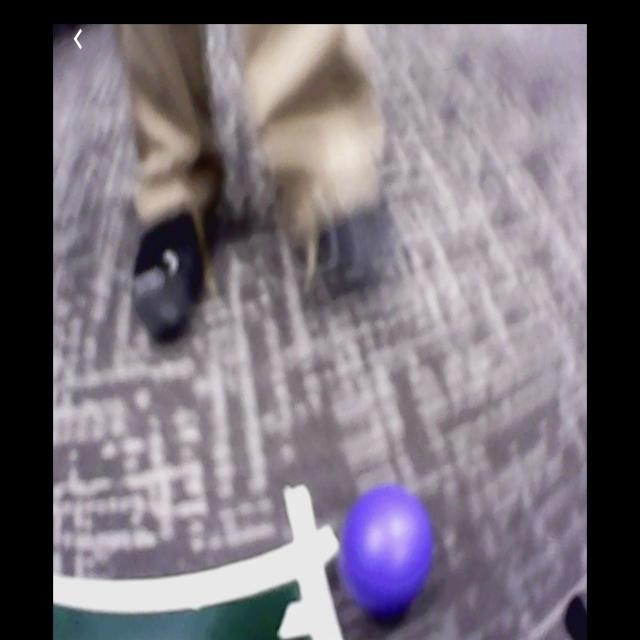ball: (341, 486, 436, 611)
